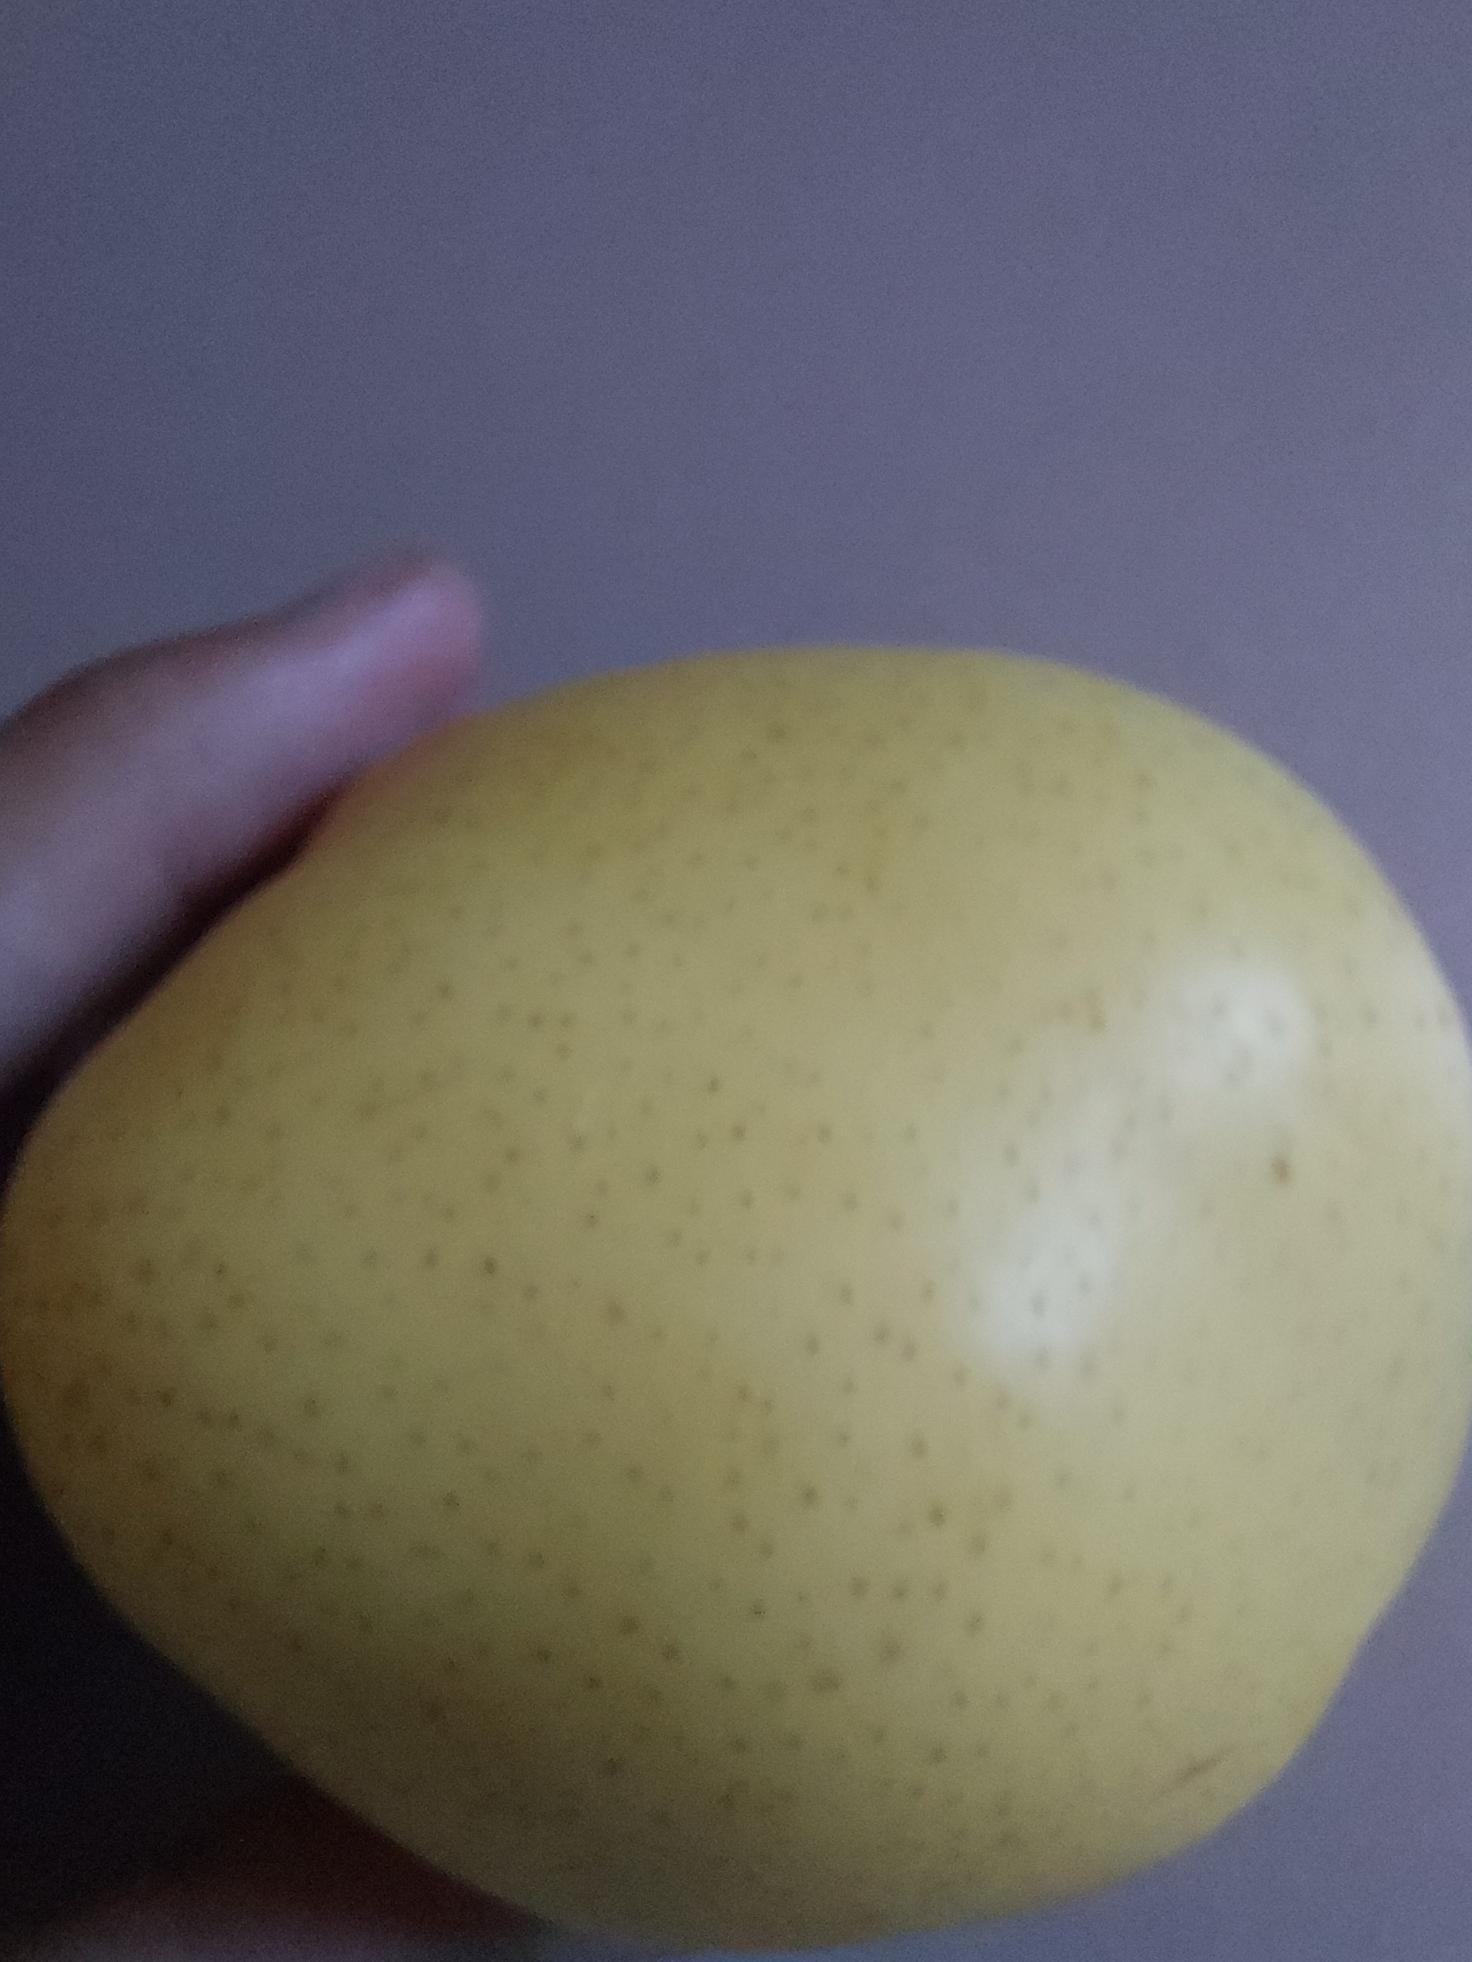Good Pear: (482, 598, 1472, 1936)
